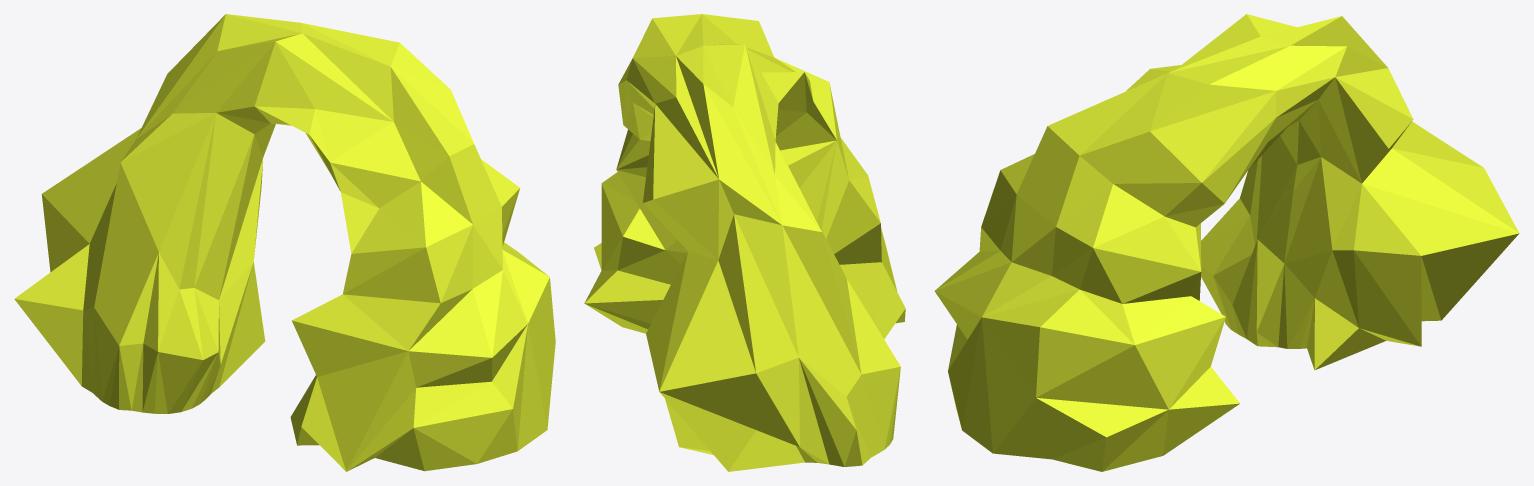
Rendered from CoralRock_8.fbx.
3 renders of one model, left to right at view 1: azimuth 30°, elevation 25°; view 2: azimuth 150°, elevation 25°; view 3: azimuth 270°, elevation 25°, orthographic. The views are drawn at different scales.
Visible parts, largest first — view 1: CoralRock_8; view 2: CoralRock_8; view 3: CoralRock_8.
Boxes of the visible parts, x1,y1,x2,y2 form: CoralRock_8: [14, 14, 555, 471]; CoralRock_8: [584, 14, 905, 471]; CoralRock_8: [934, 14, 1519, 471].
Bounding box in the file's own units: 8256 × 6765 × 9952.
